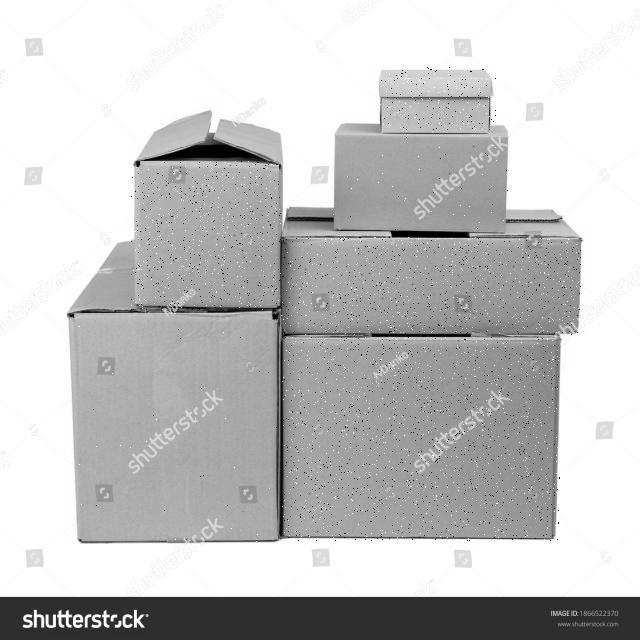BoxFace: (282, 338, 560, 542), (66, 310, 277, 542), (281, 237, 581, 335), (131, 162, 281, 314), (332, 132, 508, 230), (380, 67, 496, 130)
